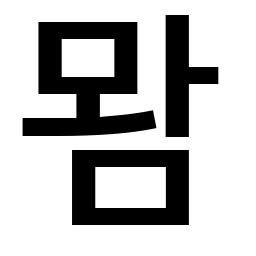Buri: (156, 6, 201, 31)
Gaji: (157, 59, 205, 92)
kkeokim: (149, 142, 200, 177), (103, 13, 146, 49)
